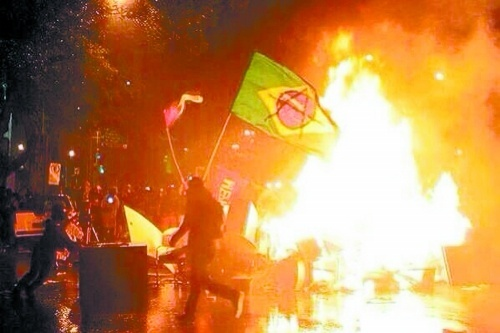fire: (247, 41, 478, 311)
